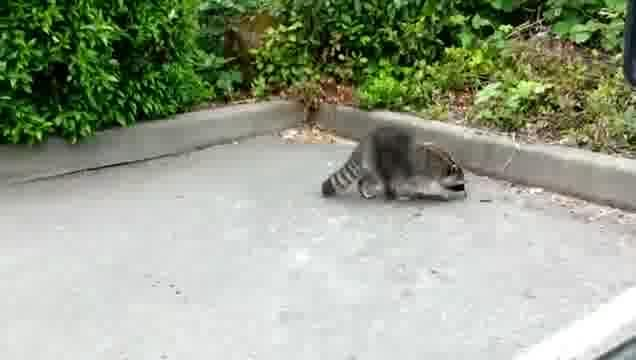raccoon: (316, 125, 475, 205)
